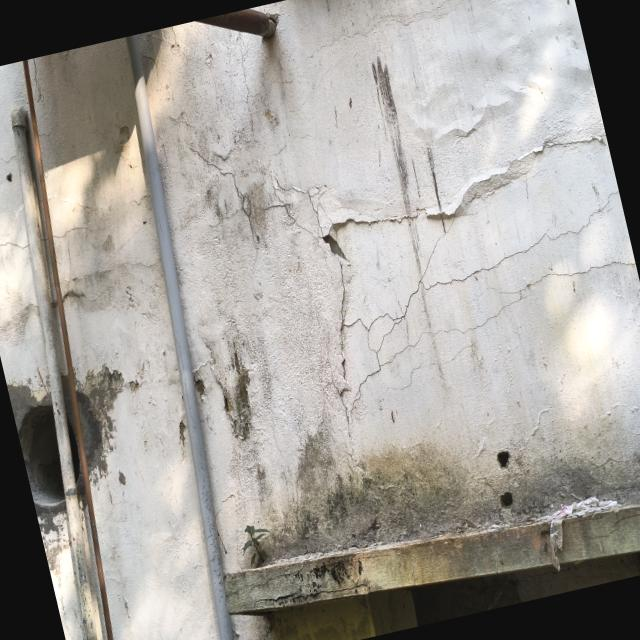crack: (344, 250, 535, 328)
peeling: (263, 77, 635, 420)
stain_mould: (237, 393, 640, 569), (225, 503, 640, 614), (224, 339, 251, 440)
